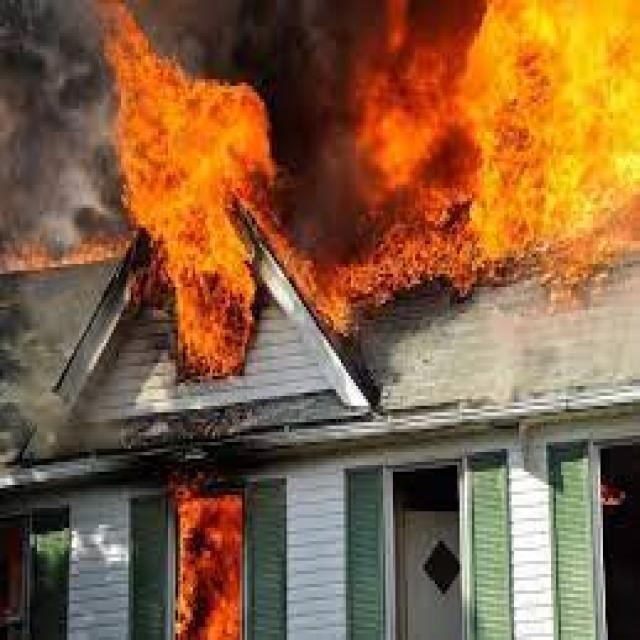Fire: (103, 4, 273, 363), (479, 0, 640, 316), (178, 495, 244, 640)
Smoke: (249, 4, 486, 159), (5, 0, 121, 251)
